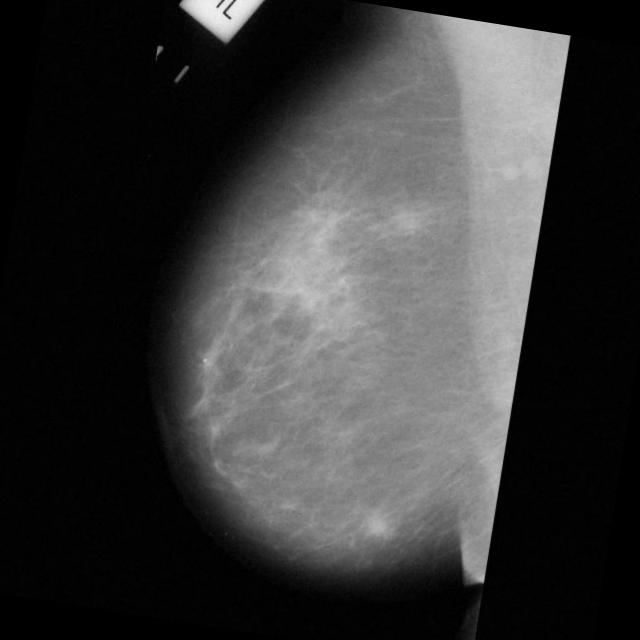SPIC: (366, 514, 391, 539)
